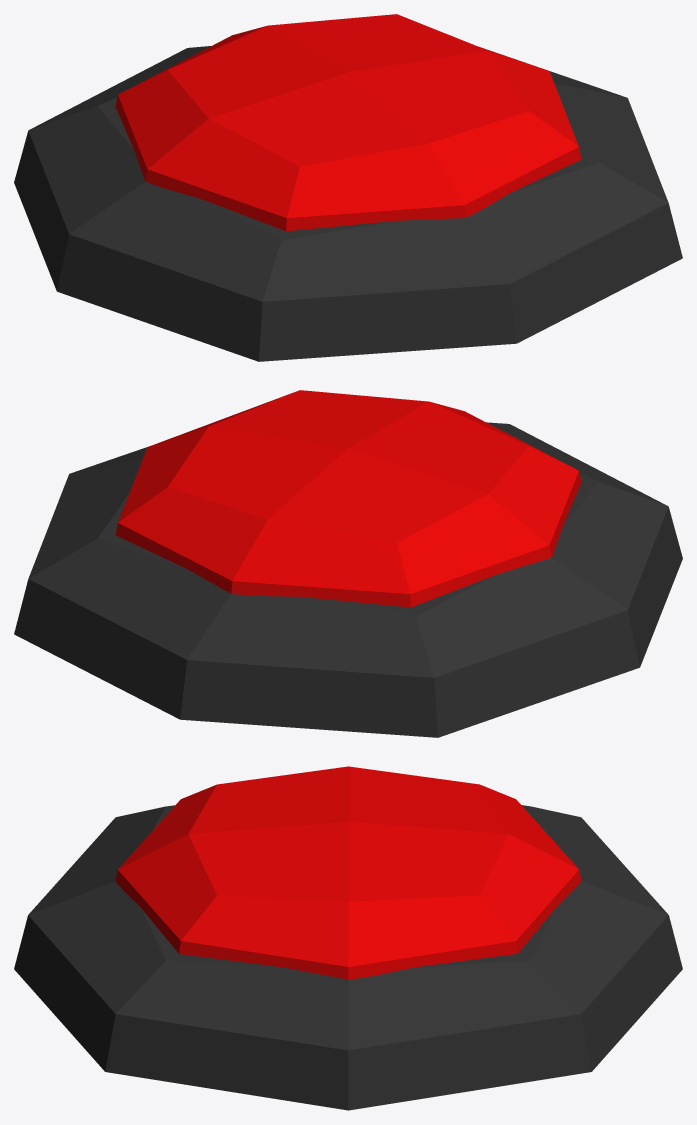
Rendered from low_poly_button.glb.
The picture shows the model from 3 angles, top to bottom: view 1: azimuth 30°, elevation 25°; view 2: azimuth 150°, elevation 25°; view 3: azimuth 270°, elevation 25°; orthographic projection.
Visible parts, largest first — view 1: Cube, Cube.001; view 2: Cube, Cube.001; view 3: Cube, Cube.001.
Boxes of the visible parts, <box> form: Cube: <box>14,46,682,361</box>; Cube.001: <box>115,14,581,231</box>; Cube: <box>14,422,682,737</box>; Cube.001: <box>115,390,581,607</box>; Cube: <box>14,805,682,1110</box>; Cube.001: <box>115,766,581,979</box>.
Size of the model in its own units: 1.83 by 0.4456 by 1.83.
